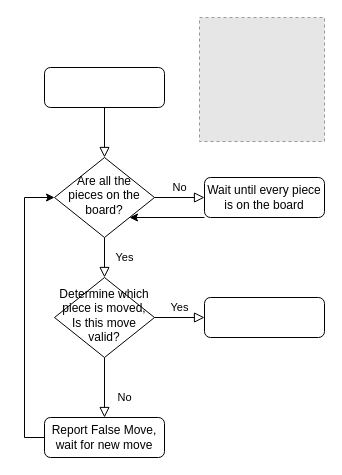
This 342x475 diagram has some shape labels left out. Grey dashed boxes stand in for pictures. Here are the shapes that lost their labels. From the top down, the centre of each, then its label:
pixel 104 87: Move played
pixel 264 317: Send boardStatus to ChessEngine
